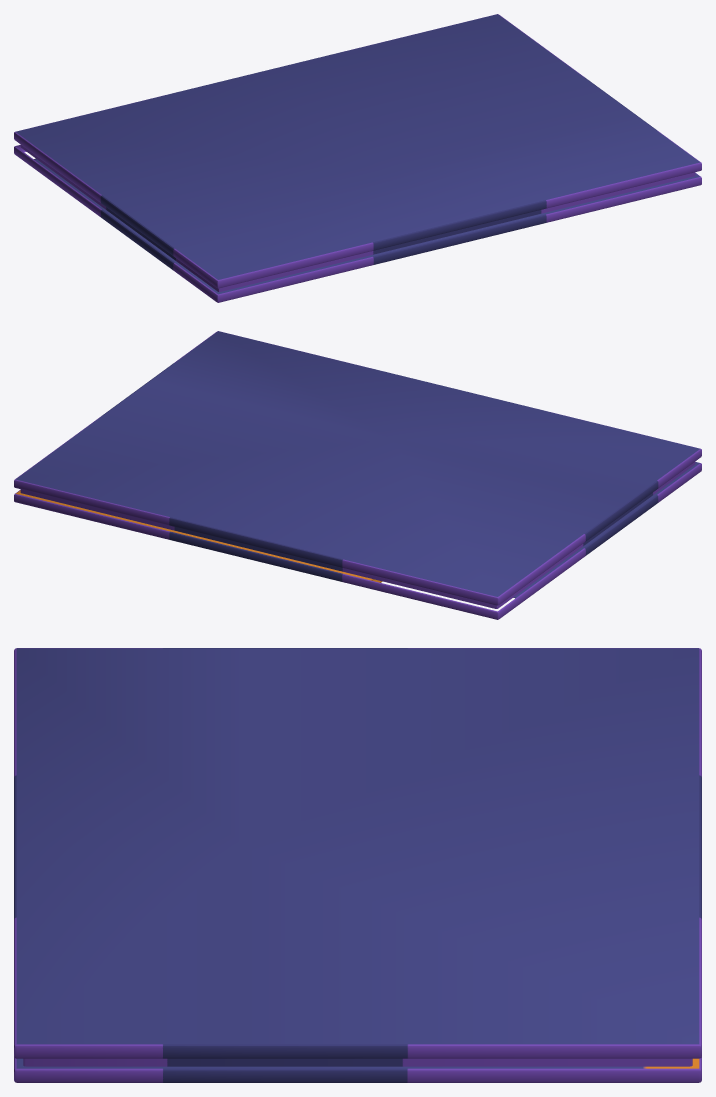
The model's file is Table_Top_long_R6.fbx.
The picture shows the model from 3 angles, top to bottom: view 1: azimuth 30°, elevation 25°; view 2: azimuth 150°, elevation 25°; view 3: azimuth 270°, elevation 25°; orthographic projection. The views are drawn at different scales.
Parts seen in each view (by area): view 1: mdl_Table_01_5; view 2: mdl_Table_01_5; view 3: mdl_Table_01_5.
Boxes of the visible parts, left/top/right/bottom form: mdl_Table_01_5: left=14, top=14, right=701, bottom=302; mdl_Table_01_5: left=14, top=331, right=701, bottom=619; mdl_Table_01_5: left=14, top=648, right=701, bottom=1082.
Bounding box in the file's own units: 810 × 36.3 × 591.
Materials: 1 (1 with a texture image).
